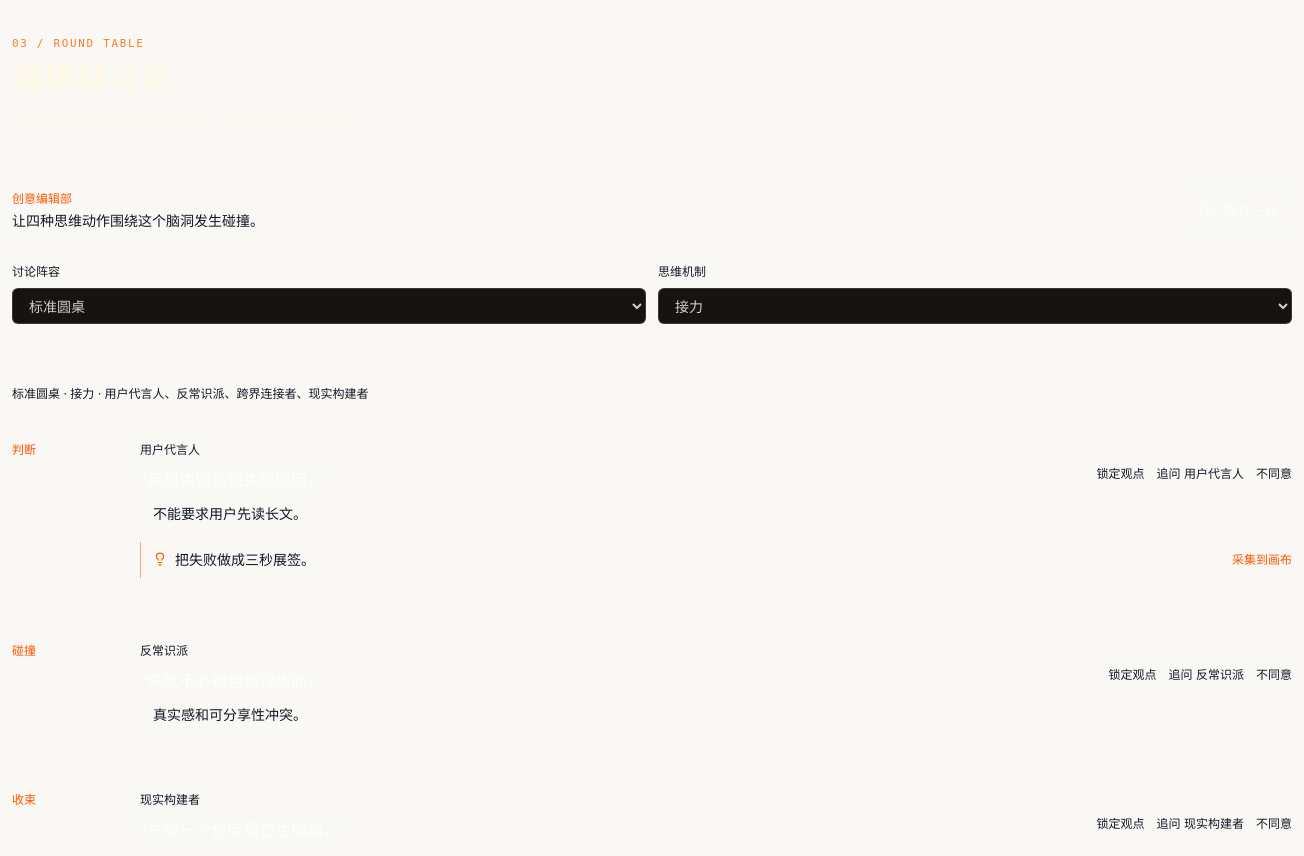
idea discussion panel › opens a focused intervention from a contribution and preserves its source
The width and height of the screenshot is (1304, 856).
Later steps or results of the test are not shown.
Click the button "追问 用户代言人" at x=1200, y=474, box [1157, 466, 1244, 482]
(page scrolled)
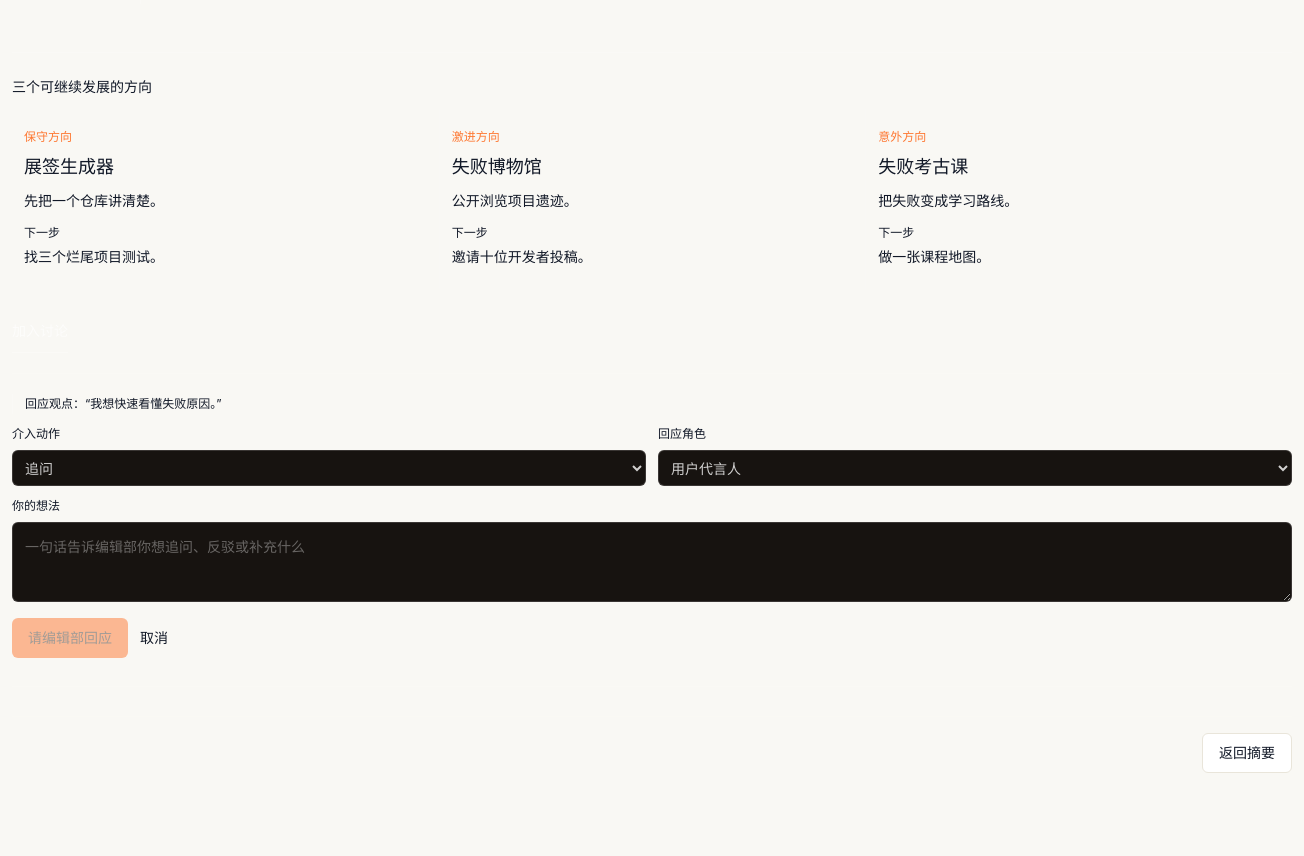
Check: the dropdown labelled "介入动作" shows "追问", box [12, 450, 646, 486]
Check: the dropdown labelled "回应角色" shows "用户代言人", box [658, 450, 1292, 486]
Check: the form named "加入讨论" shows "我想快速看懂失败原因", box [90, 396, 216, 412]
